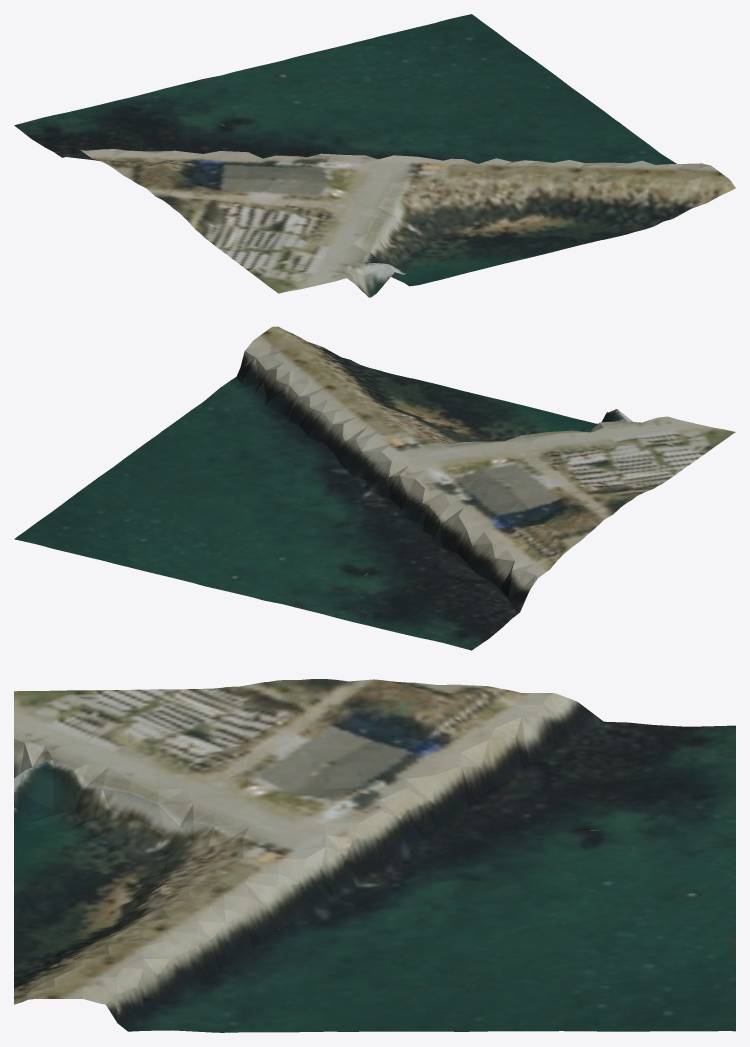
3 renders of one model, top to bottom at view 1: azimuth 30°, elevation 25°; view 2: azimuth 150°, elevation 25°; view 3: azimuth 270°, elevation 25°, orthographic. The views are drawn at different scales.
Size of the model in its own units: 104 by 7.98 by 104.
Materials: 3 (3 with a texture image).
